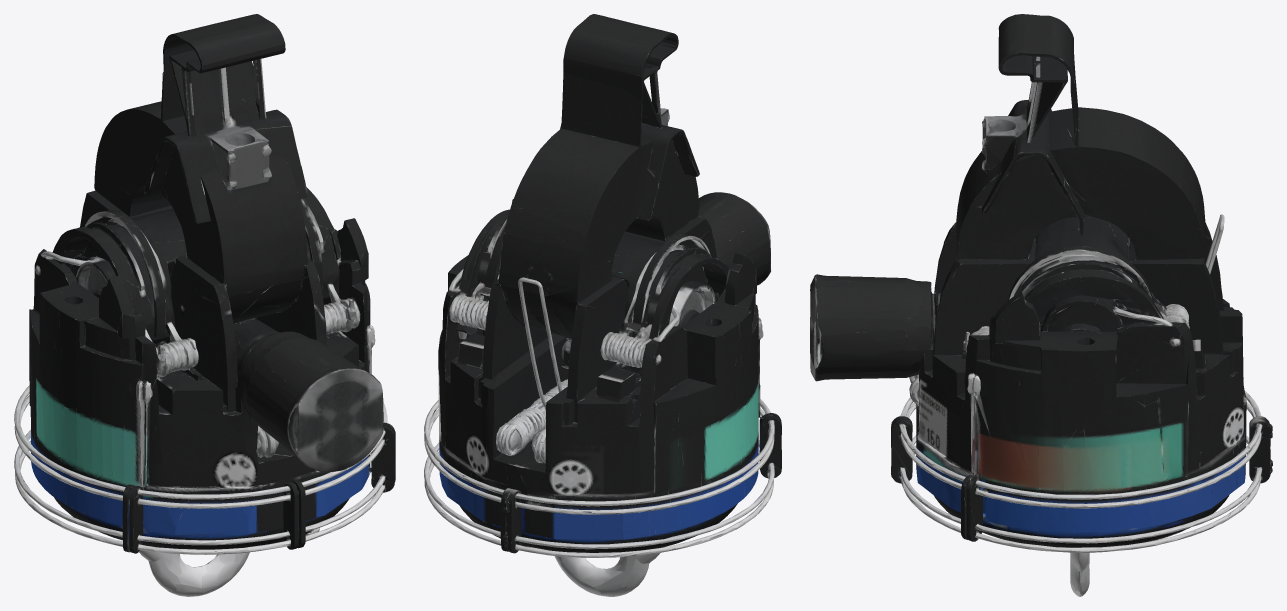
3 views of the same model, side by side, from view 1: azimuth 30°, elevation 25°; view 2: azimuth 150°, elevation 25°; view 3: azimuth 270°, elevation 25° (orthographic). The views are drawn at different scales.
Visible parts, largest first — view 1: mesh_node; view 2: mesh_node; view 3: mesh_node.
Boxes of the visible parts, x1,y1,x2,y2 form: mesh_node: (14, 14, 395, 596); mesh_node: (424, 14, 781, 596); mesh_node: (810, 14, 1272, 596).
Size of the model in its own units: 1.1 by 1.9 by 1.43.
Materials: 1 (1 with a texture image).
